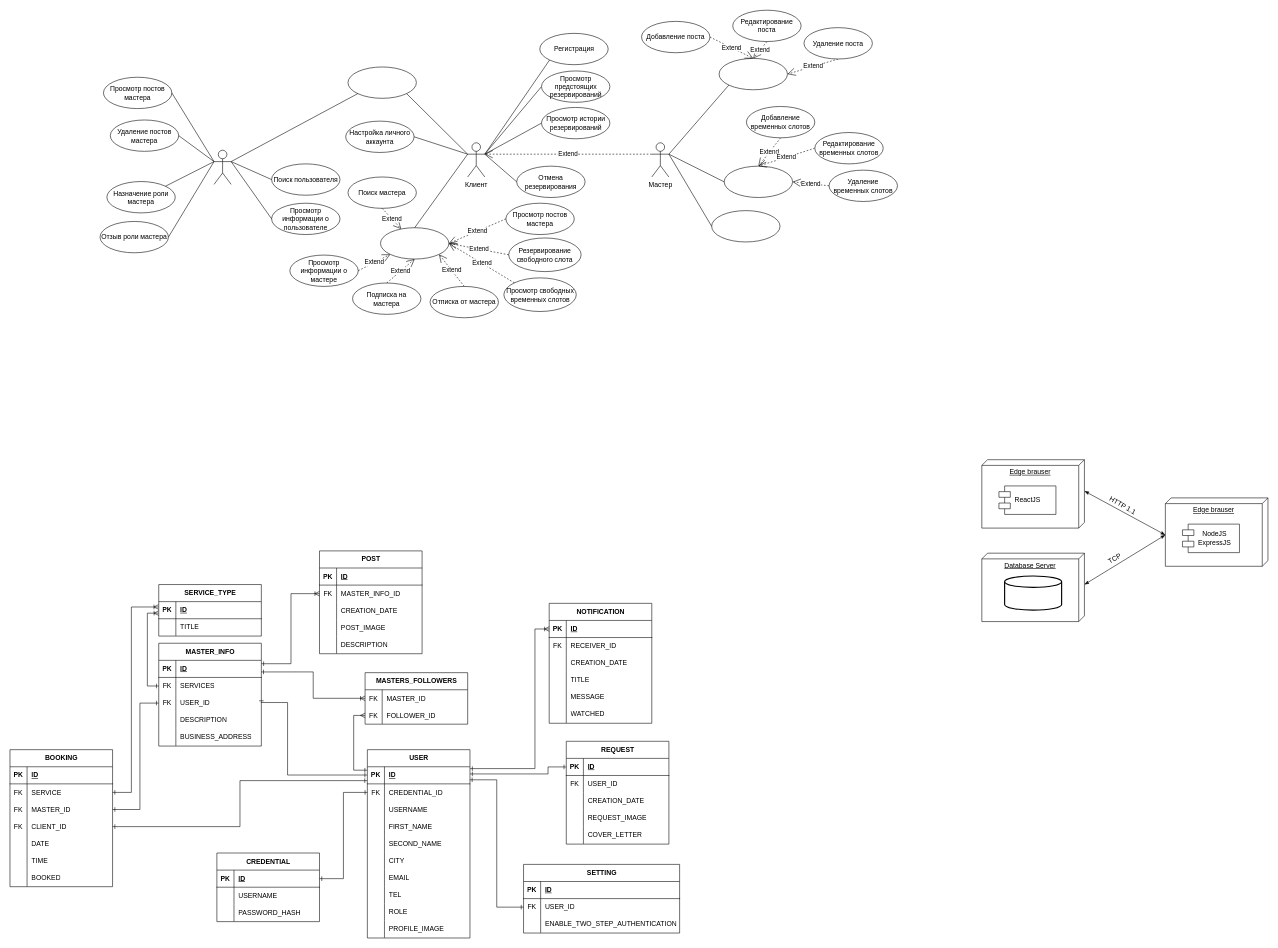
Some shapes in this 1278 by 948 pixel diagram are drawn without their labels. The centre of each missing label's shape, as x and y in pixels:
"PostreSQL" goes at point 1033,592.
"Администратор" goes at point 222,167.
"Атентификация" goes at point 381,82.
"Взаимодействие с мастерами" goes at point 414,243.
"Отмена записи" goes at point 745,226.
"Управление временными слотами" goes at point 758,182.
"Управление постом" goes at point 752,74.
